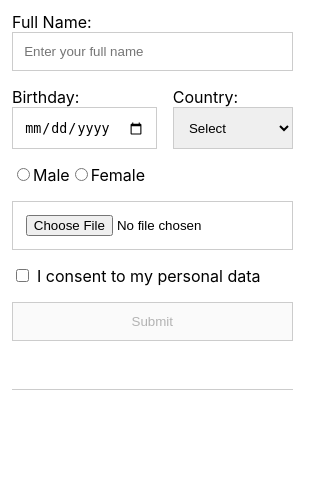
Test: Form Page › fullName must be more than 6 letters
The width and height of the screenshot is (332, 489).
Type "test" into the field with test id "fullNameInput".
click(152, 52); type("test")  # box [12,32,293,71]
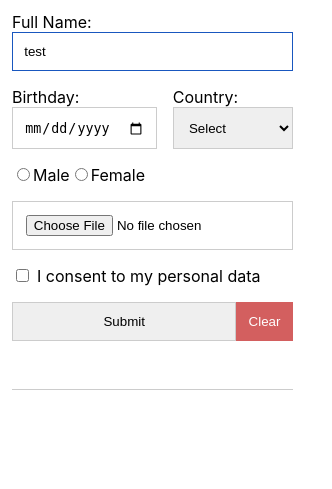
Click the button with test id "submit-button".
click(124, 321)  # box [12,302,236,341]
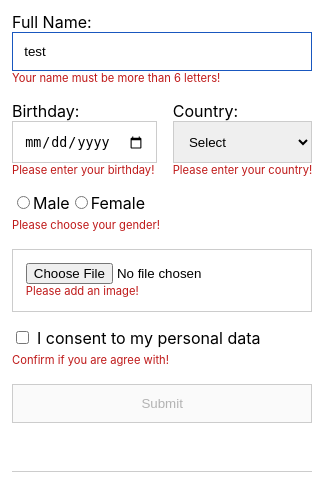
Now the text "Your name must be more than 6 letters!" is shown, box [12,71,220,85]
